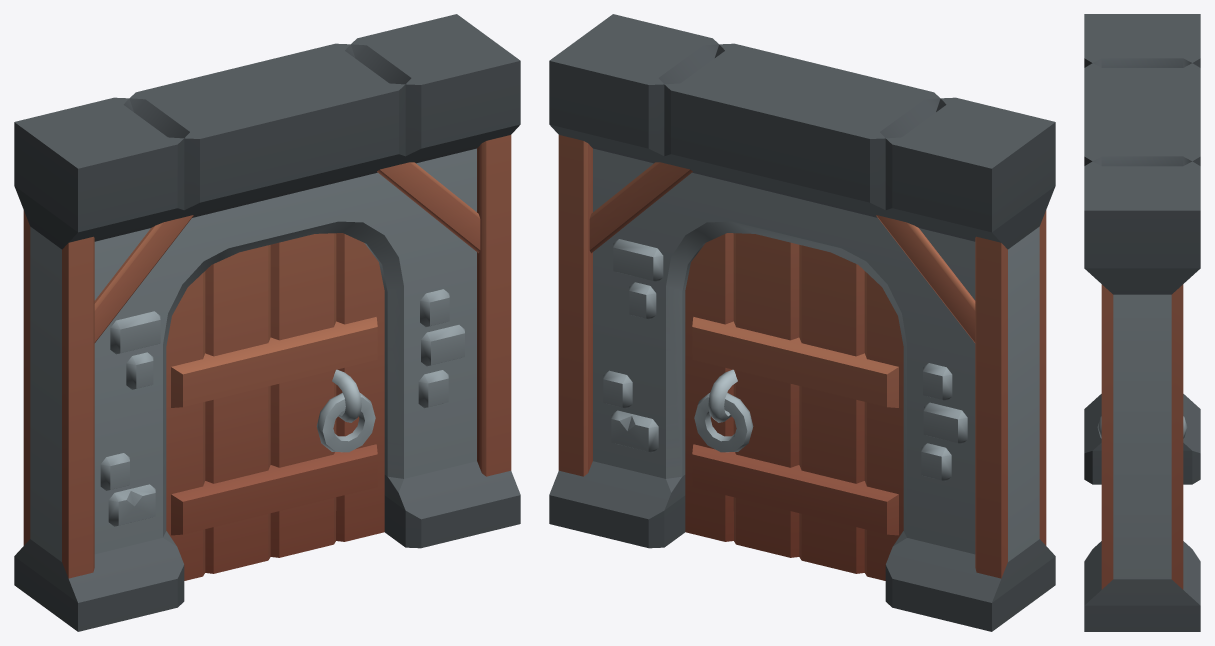
Rendered from wall_doorway_scaffold.glb.
3 renders of one model, left to right at view 1: azimuth 30°, elevation 25°; view 2: azimuth 150°, elevation 25°; view 3: azimuth 270°, elevation 25°, orthographic. The views are drawn at different scales.
Visible parts, largest first — view 1: wall_doorway_scaffold, wall_doorway_scaffold_door; view 2: wall_doorway_scaffold, wall_doorway_scaffold_door; view 3: wall_doorway_scaffold.
Boxes of the visible parts, box(x1,y1,x2,y2) form: wall_doorway_scaffold: box(14, 14, 520, 631); wall_doorway_scaffold_door: box(166, 233, 384, 580); wall_doorway_scaffold: box(549, 14, 1055, 631); wall_doorway_scaffold_door: box(685, 233, 903, 580); wall_doorway_scaffold: box(1084, 14, 1200, 631).
Bounding box in the file's own units: 4 × 4 × 1.
Materials: 1 (1 with a texture image).
